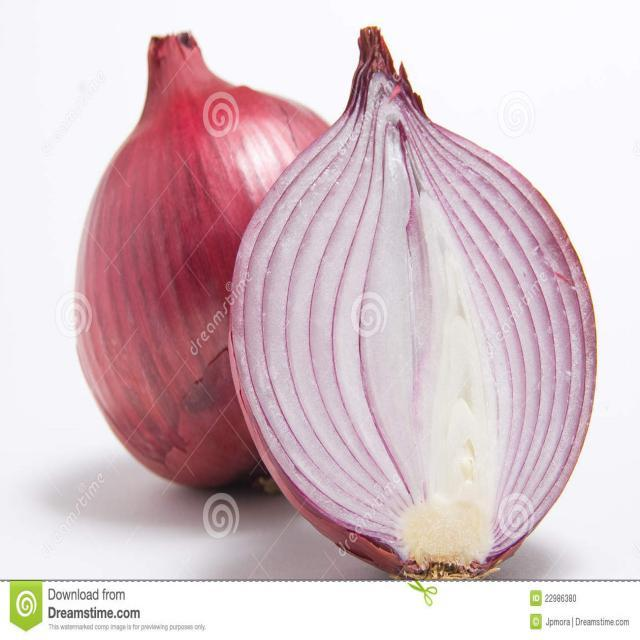onion: (228, 23, 598, 579), (74, 30, 335, 489)
